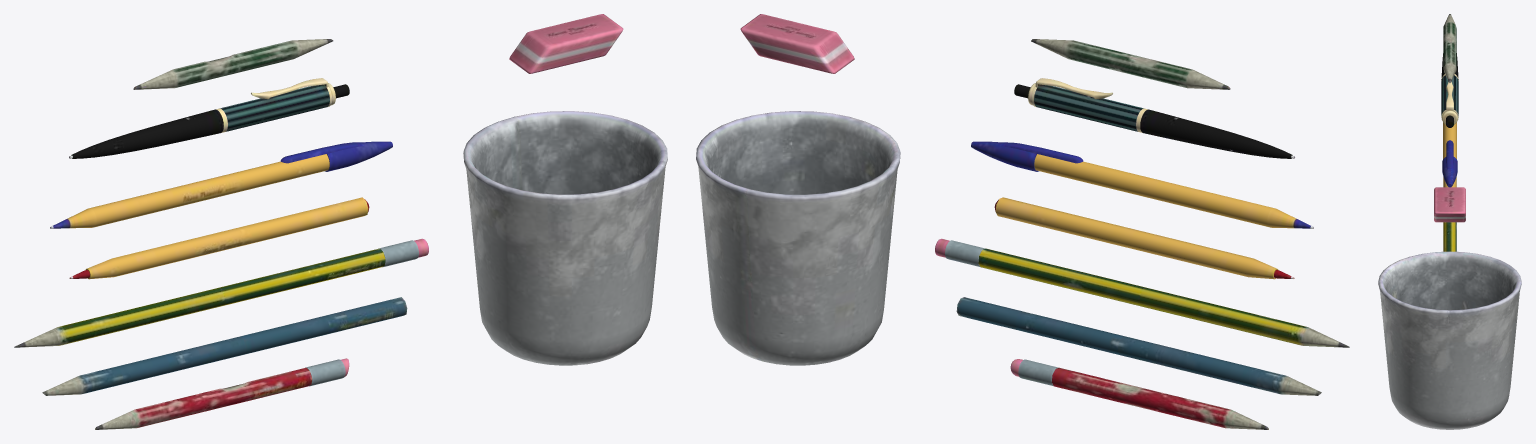
Rendered from ph_stationery_supplies.glb.
3 views of the same model, side by side, from view 1: azimuth 30°, elevation 25°; view 2: azimuth 150°, elevation 25°; view 3: azimuth 270°, elevation 25° (orthographic). The views are drawn at different scales.
Visible parts, largest first — view 1: stationery_supplies_pen_red; view 2: stationery_supplies_pen_red; view 3: stationery_supplies_pen_red.
Boxes of the visible parts, bbox=[...] form: stationery_supplies_pen_red: bbox=[14, 14, 667, 429]; stationery_supplies_pen_red: bbox=[696, 14, 1349, 429]; stationery_supplies_pen_red: bbox=[1378, 14, 1521, 429].
Size of the model in its own units: 0.3019 by 0.1644 by 0.0837.
1 material, 1 textured.
